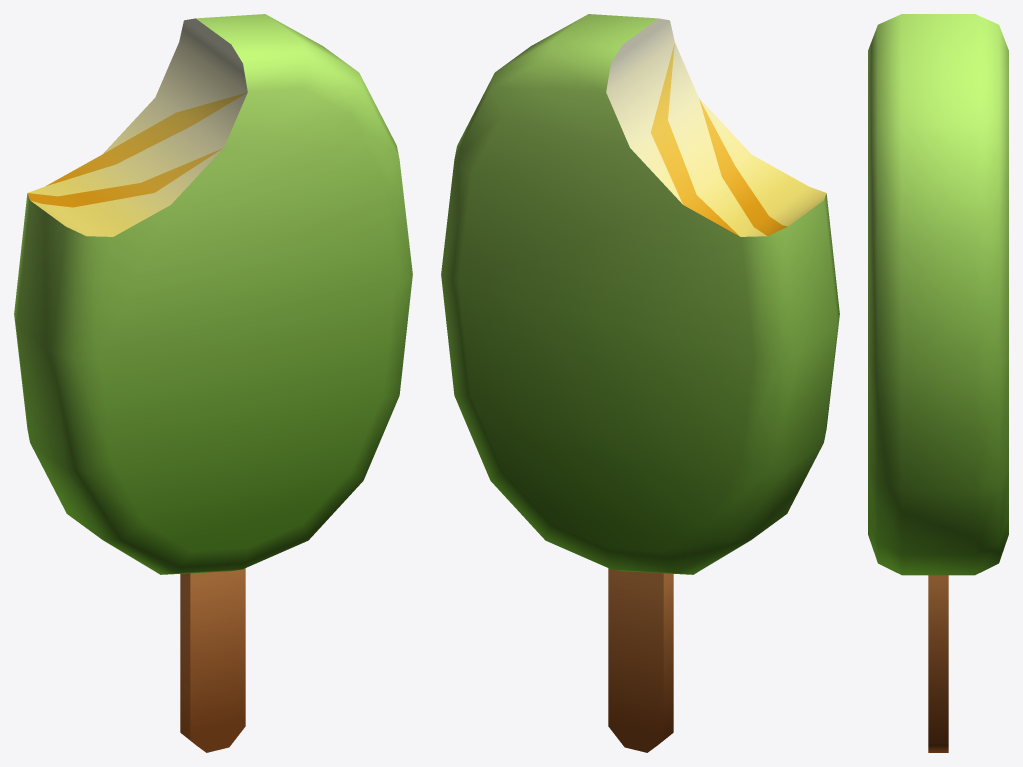
File: m_BigPopsicle05.fbx
3 views of the same model, side by side, from view 1: azimuth 30°, elevation 25°; view 2: azimuth 150°, elevation 25°; view 3: azimuth 270°, elevation 25° (orthographic). The views are drawn at different scales.
Visible parts, largest first — view 1: m_BigPopsicle05; view 2: m_BigPopsicle05; view 3: m_BigPopsicle05.
Boxes of the visible parts, bbox=[...] form: m_BigPopsicle05: bbox=[14, 14, 412, 752]; m_BigPopsicle05: bbox=[441, 14, 839, 752]; m_BigPopsicle05: bbox=[868, 14, 1008, 752].
Size of the model in its own units: 12.05 by 22.96 by 4.
